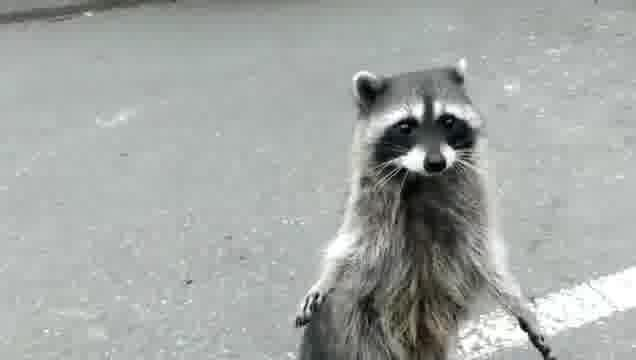raccoon: (290, 54, 556, 360)
